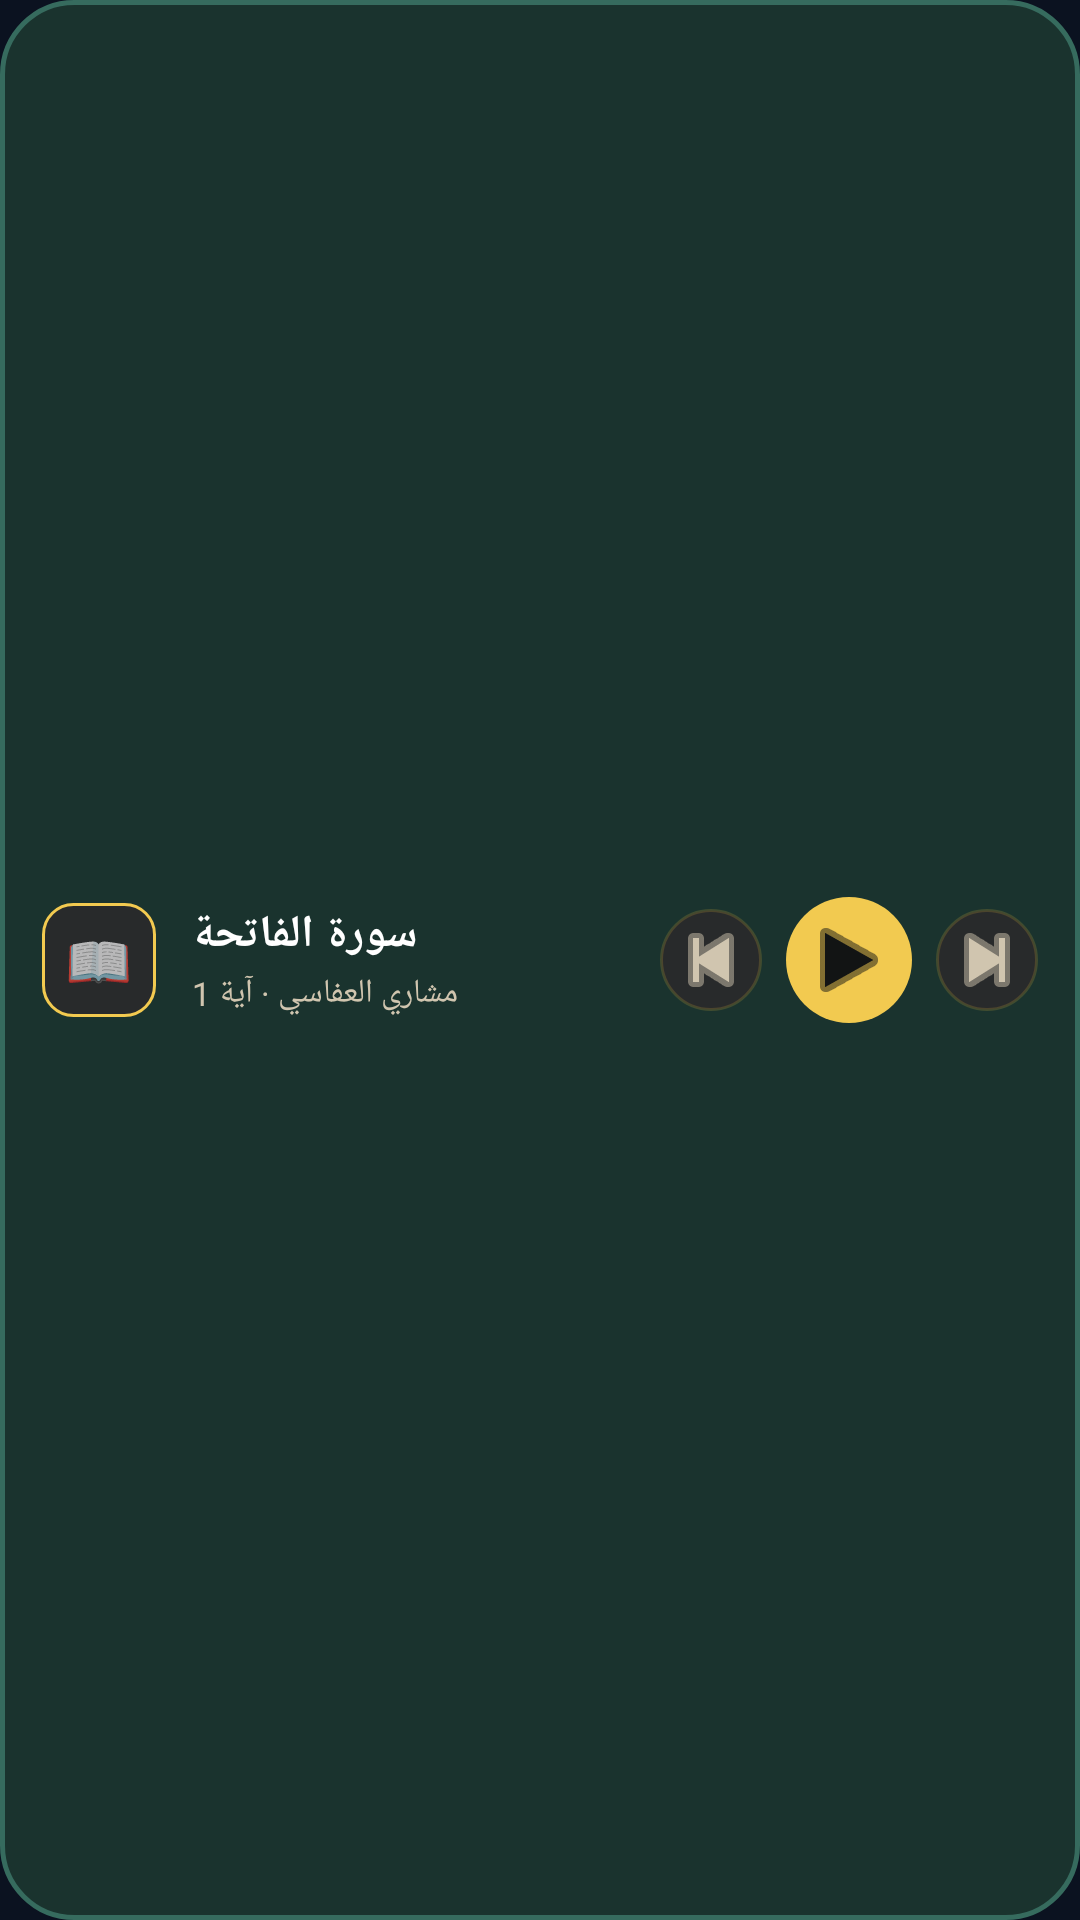

Named icons in this screenshot (1080 x 1920) and their centers, point (x, y):
Next Ayah: point (987, 960)
Play/Pause: point (849, 960)
Previous Ayah: point (711, 960)
